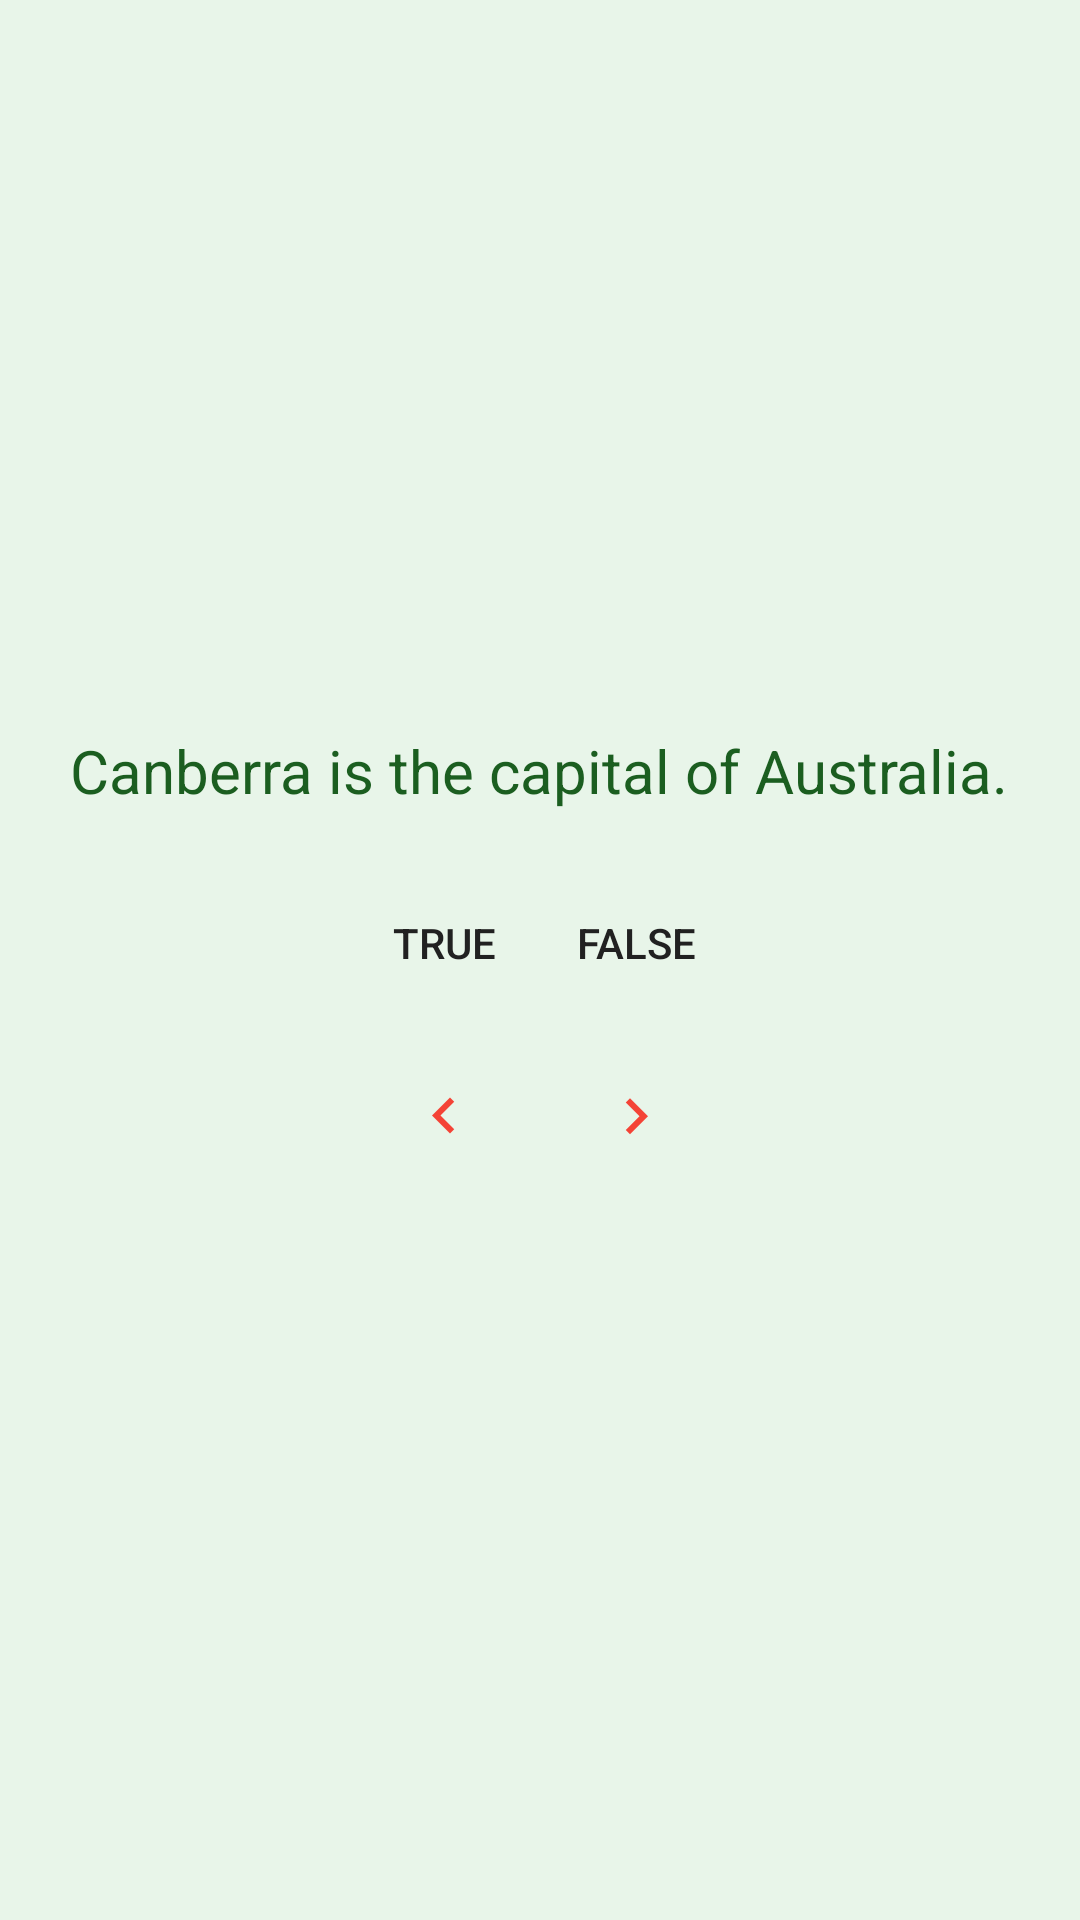

Where icons sit on this 1080 x 1920 app screen, as [x1,y1,x2,y2]:
Next: [626,1098,648,1134]
Prev: [432,1098,454,1133]
